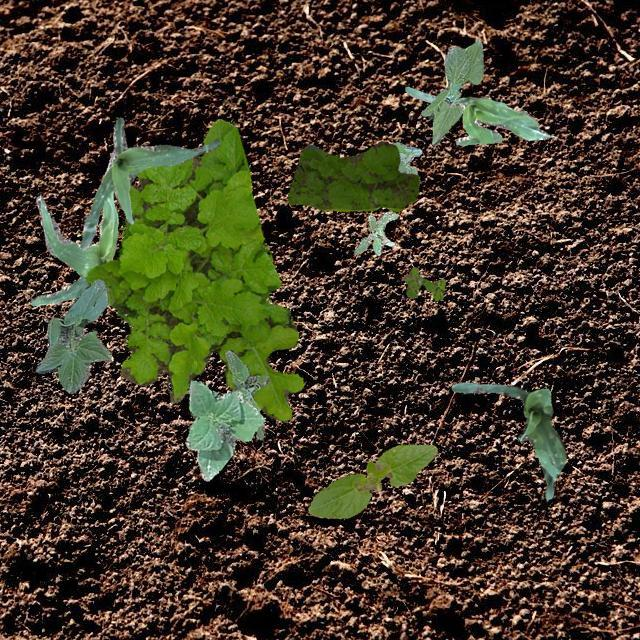crop: (80, 116, 218, 248), (450, 380, 566, 500), (28, 190, 118, 304), (308, 443, 437, 518), (34, 278, 110, 392), (404, 85, 548, 144), (186, 380, 264, 480), (419, 38, 482, 144)
weed: (85, 117, 302, 420), (286, 140, 418, 210), (223, 348, 269, 442), (352, 210, 397, 254), (402, 266, 444, 300), (392, 142, 422, 174)
